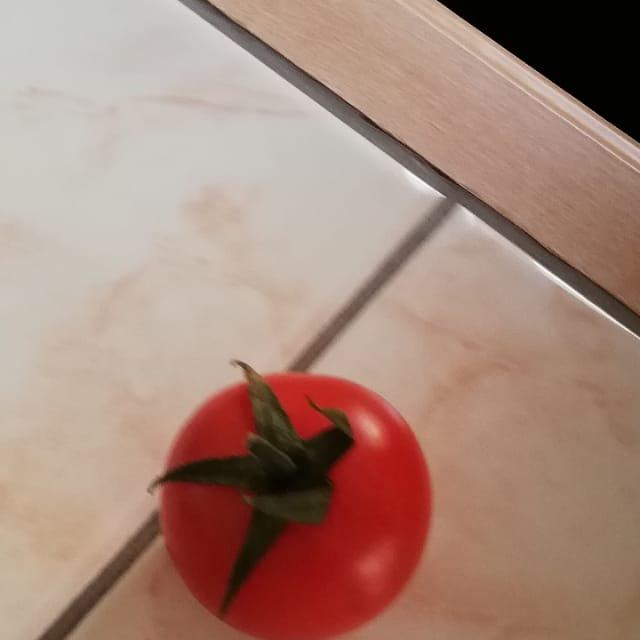tomato: (142, 346, 445, 640)
